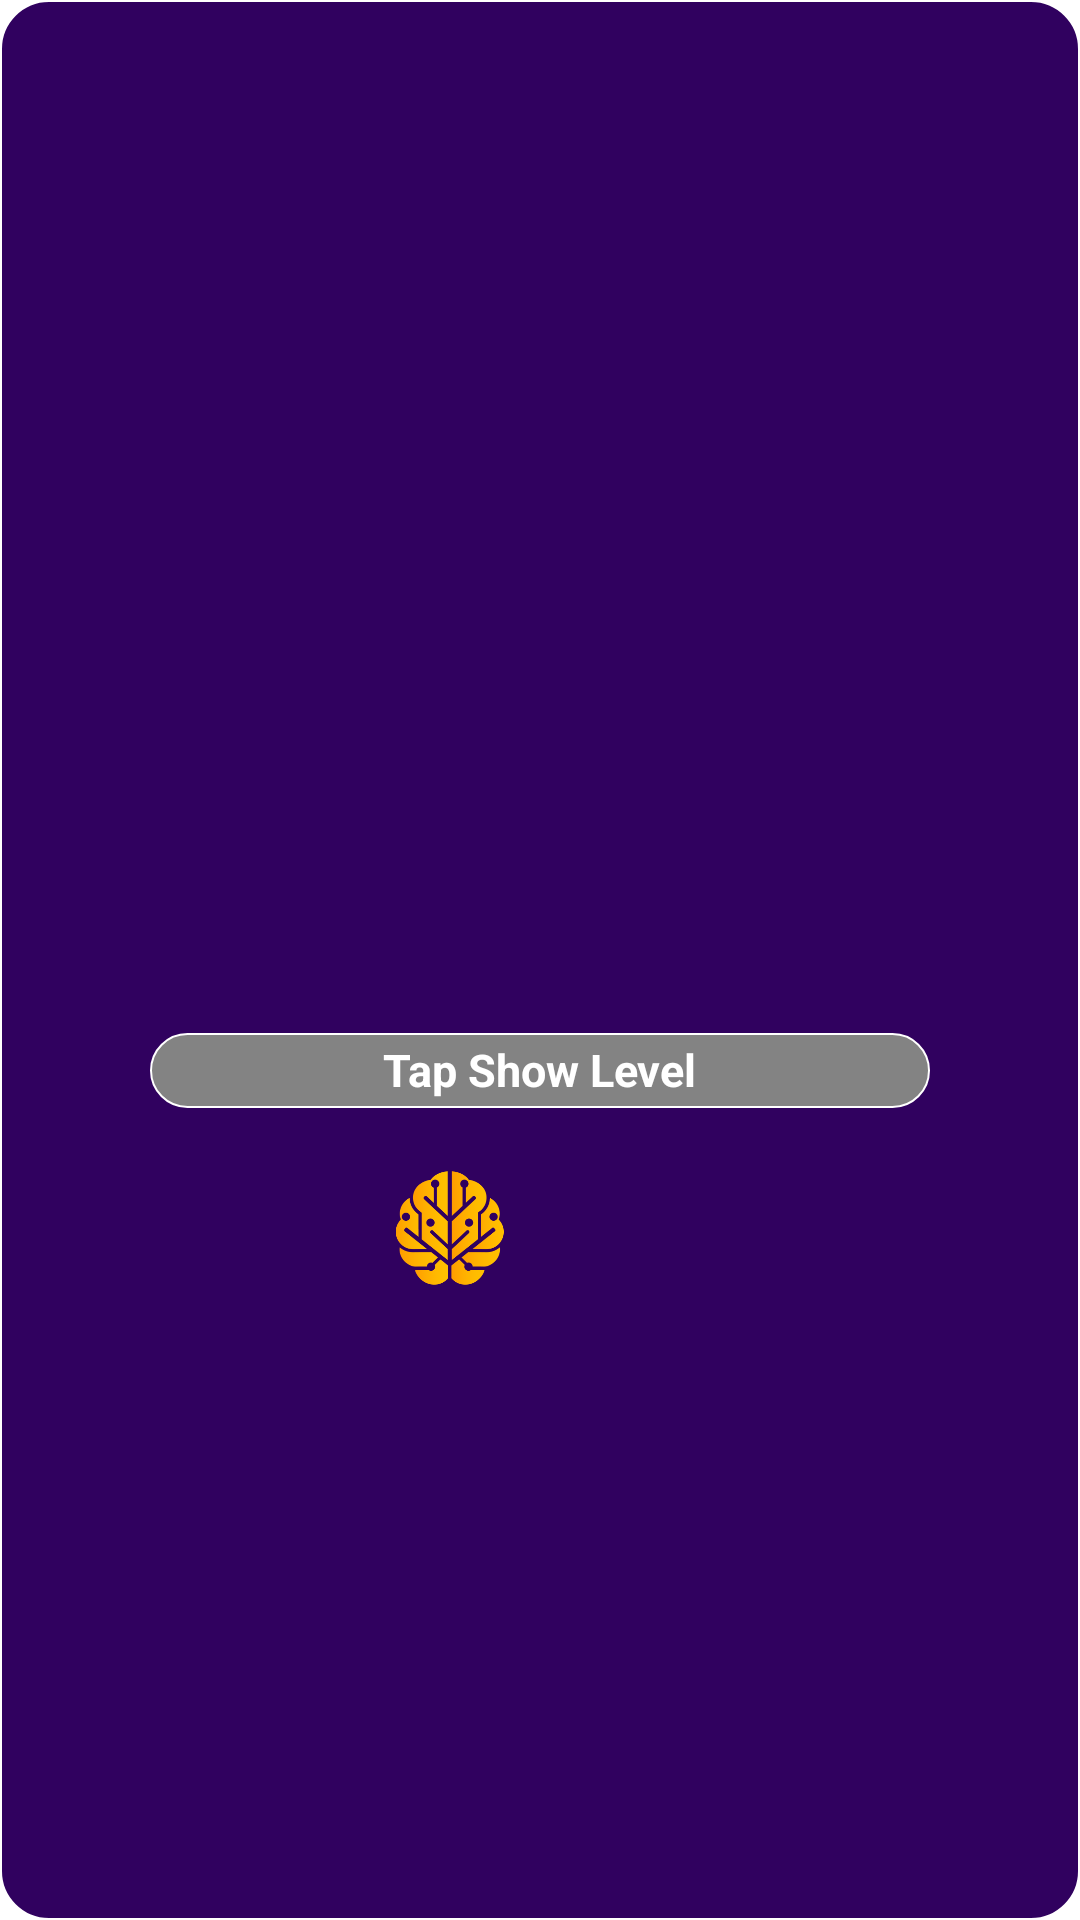

Screen size 1080 x 1920. Icon name, then its box in pixels as (x1, y1, x2, y2):
brain mint: (396, 1171, 504, 1285)
